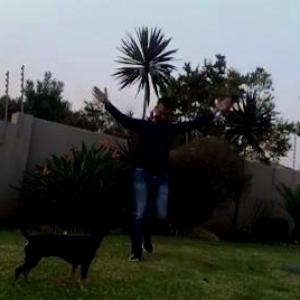takeoff: (92, 85, 234, 249)
